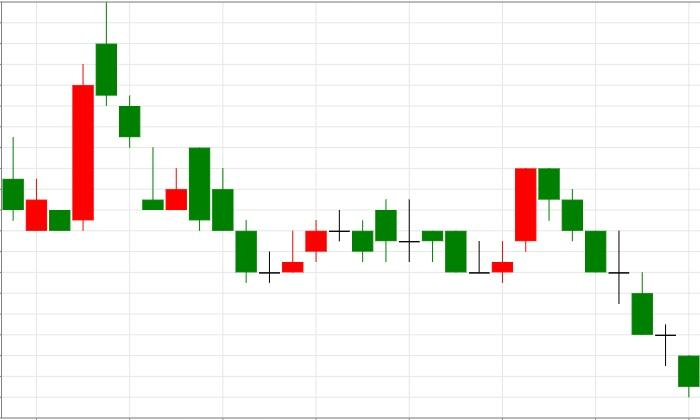bullish_engulfing_rise: (95, 2, 211, 230)
morning_star_rise: (189, 147, 304, 283), (374, 198, 514, 283)
three_black_crows_fall: (491, 168, 607, 284)
